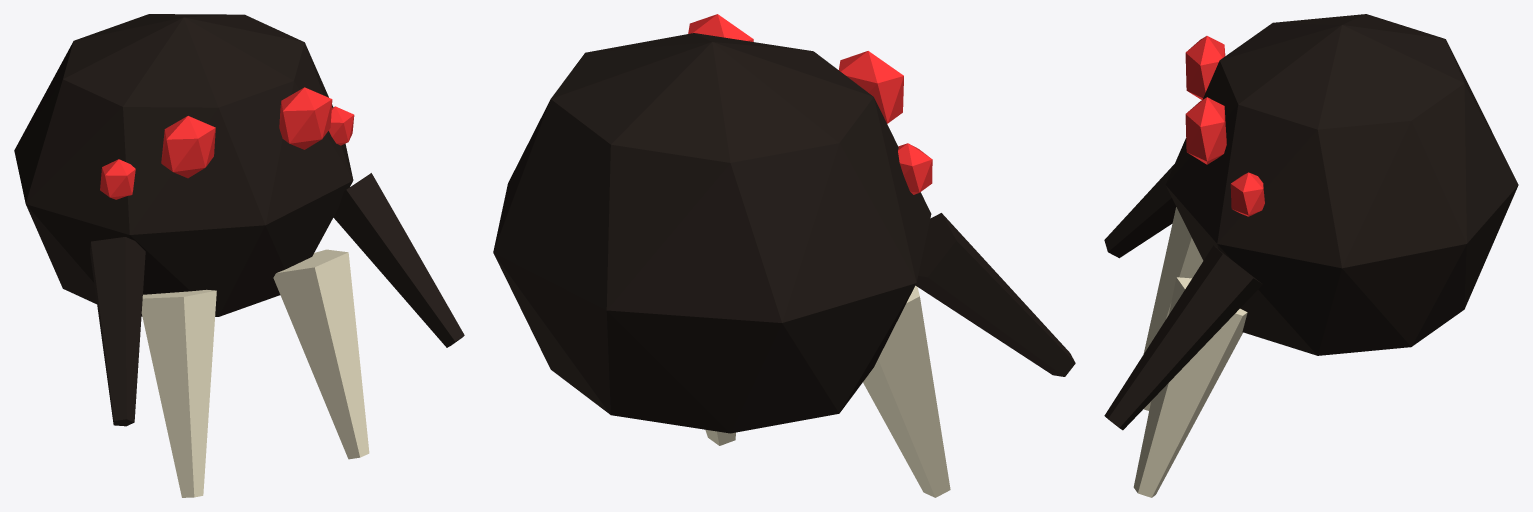
Rendered from spider_0_head.glb.
3 views of the same model, side by side, from view 1: azimuth 30°, elevation 25°; view 2: azimuth 150°, elevation 25°; view 3: azimuth 270°, elevation 25° (orthographic). The views are drawn at different scales.
Parts seen in each view (by area): view 1: spider_0_head; view 2: spider_0_head; view 3: spider_0_head.
Boxes of the visible parts, x1,y1,x2,y2 form: spider_0_head: (14, 14, 464, 497); spider_0_head: (493, 14, 1075, 497); spider_0_head: (1104, 14, 1518, 497).
Size of the model in its own units: 0.2108 by 0.2271 by 0.1995.
